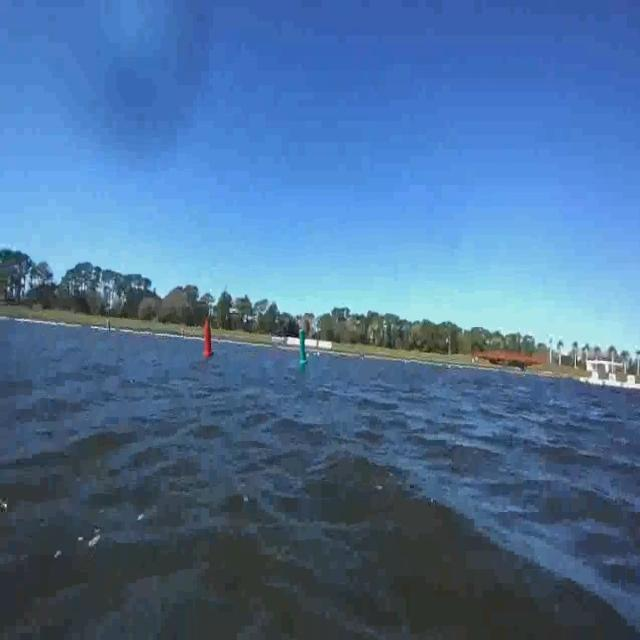green-column-buoy: (298, 327, 310, 363)
red-column-buoy: (203, 312, 211, 362)
